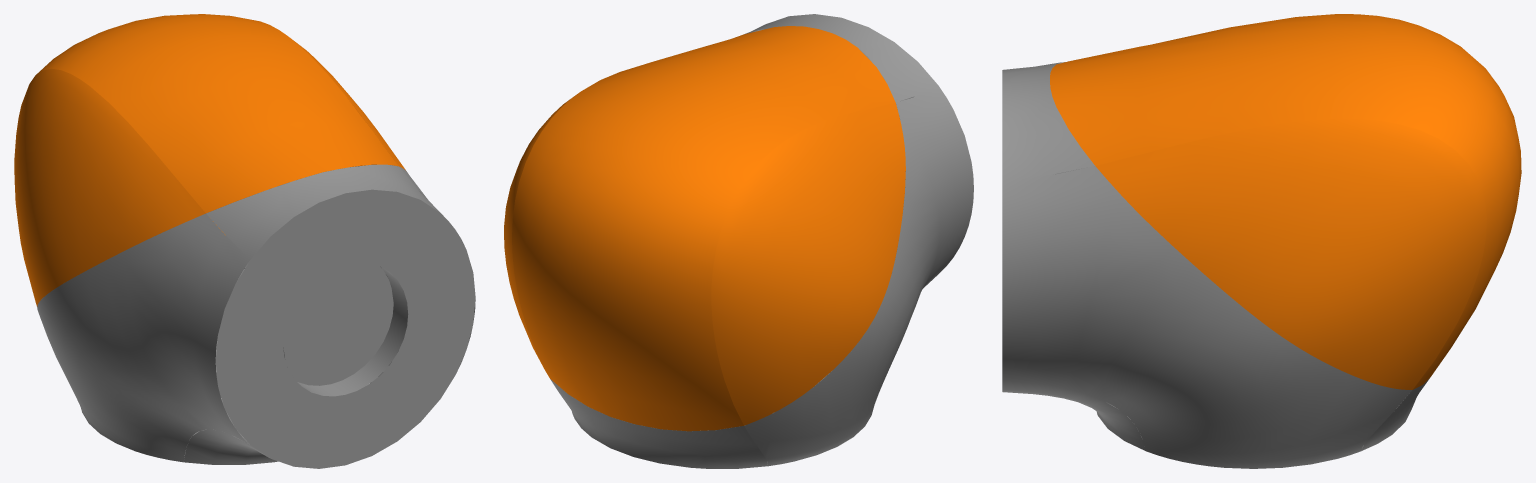
3 renders of one model, left to right at view 1: azimuth 30°, elevation 25°; view 2: azimuth 150°, elevation 25°; view 3: azimuth 270°, elevation 25°, orthographic. The views are drawn at different scales.
Visible parts, largest first — view 1: DirectConnectNode_3-DC_Shell (×2); view 2: DirectConnectNode_3-DC_Shell (×2); view 3: DirectConnectNode_3-DC_Shell (×2).
Boxes of the visible parts, x1,y1,x2,y2 form: DirectConnectNode_3-DC_Shell (×2): (14,14,475,468); DirectConnectNode_3-DC_Shell (×2): (504,14,973,468); DirectConnectNode_3-DC_Shell (×2): (1002,14,1521,468).
Bounding box in the file's own units: 132 × 167 × 138.
